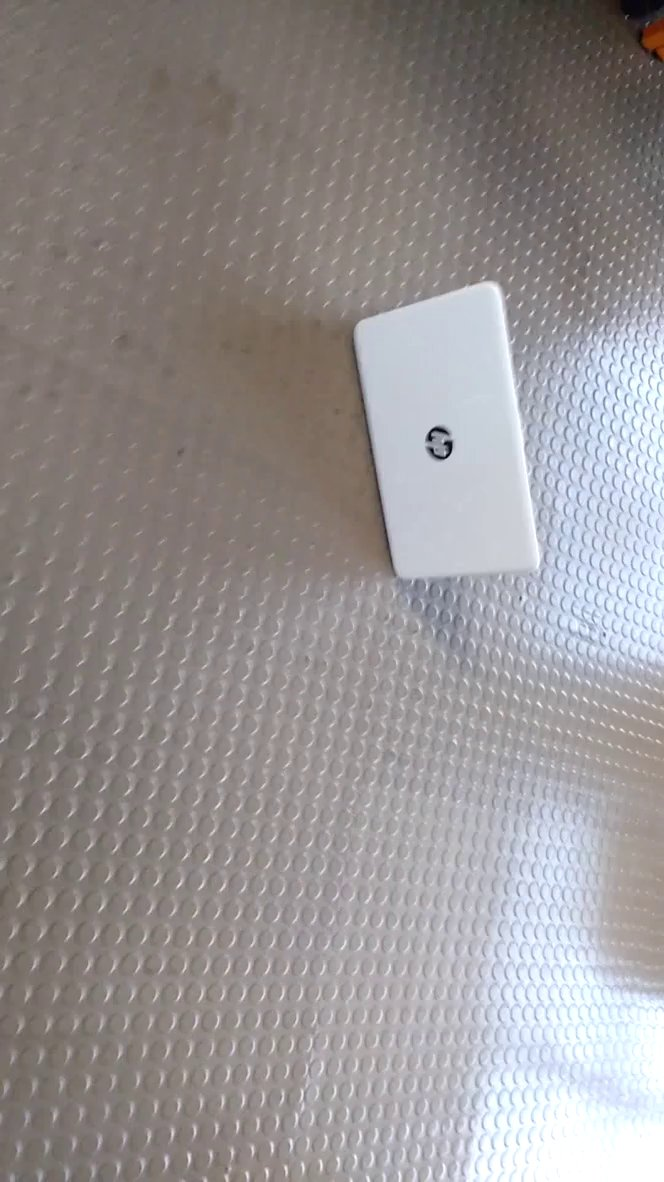laptop: (337, 268, 554, 585)
